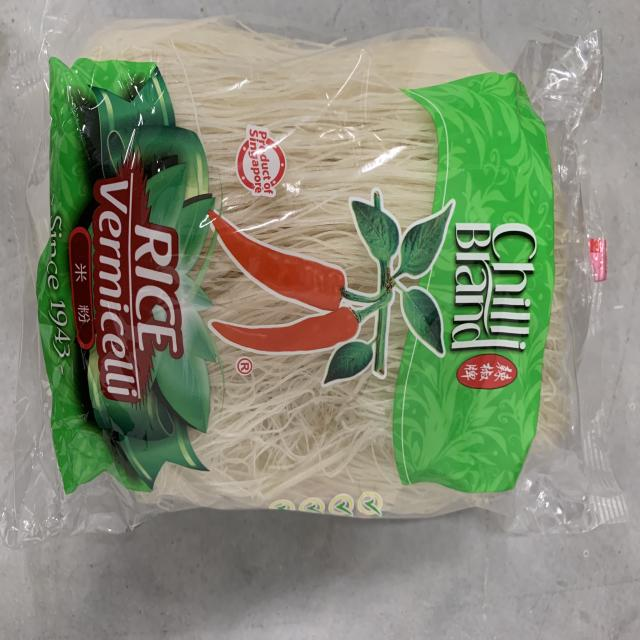object_name: (38, 37, 568, 512)
